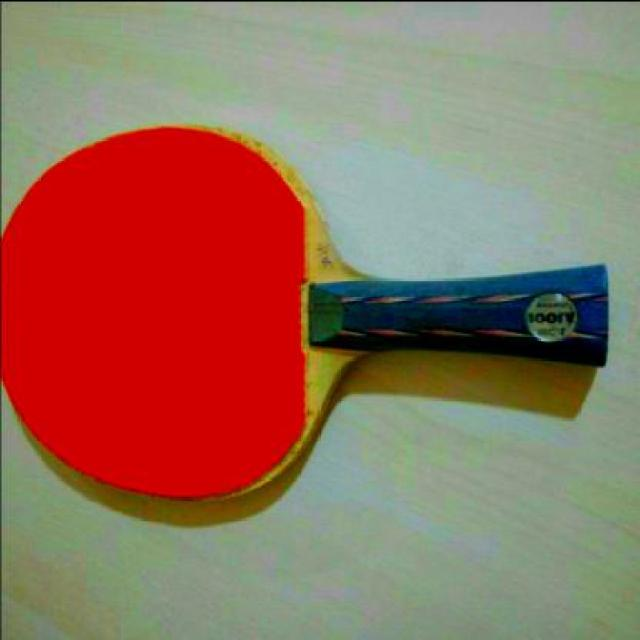table_tennis_racket: (2, 121, 367, 505)
